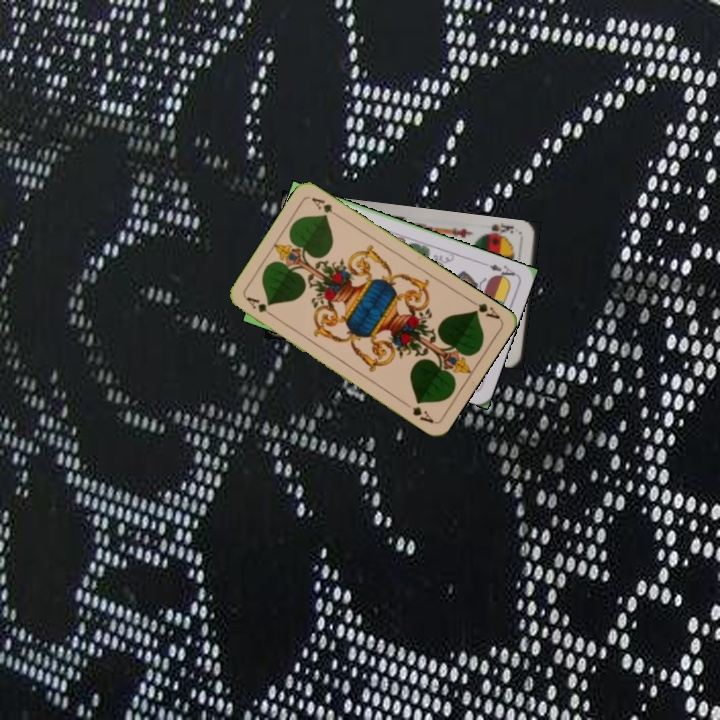EA: (485, 260, 519, 284)
GA: (465, 295, 502, 322), (242, 293, 278, 320)
SK: (482, 220, 517, 241)
